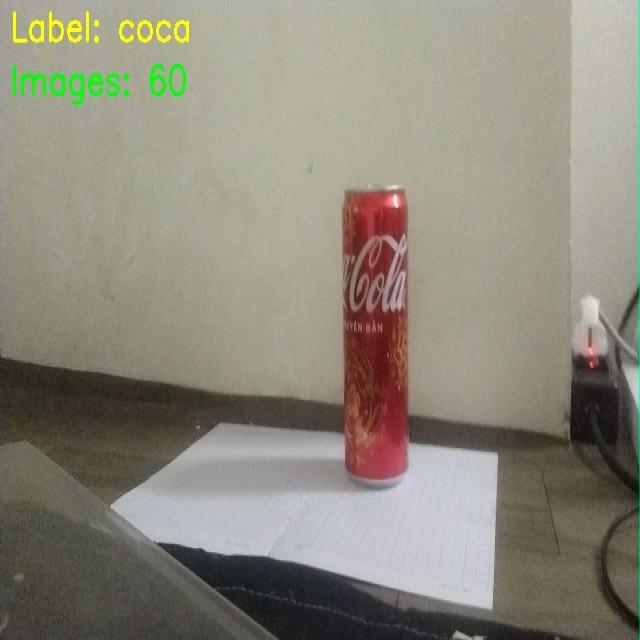Coca: (320, 163, 438, 509)
